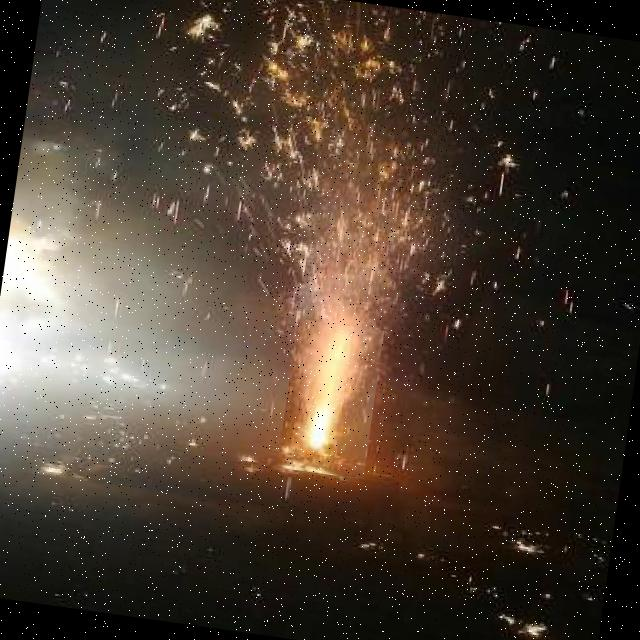fire: (277, 318, 384, 480)
